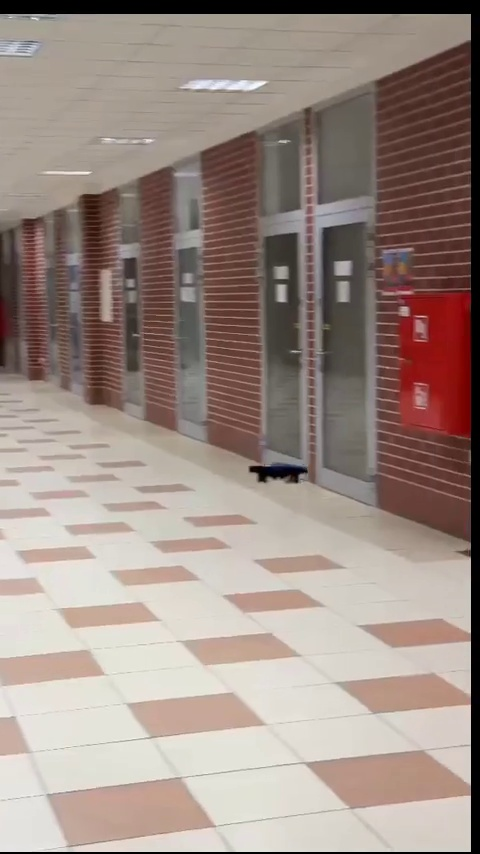drone: (251, 463, 307, 482)
